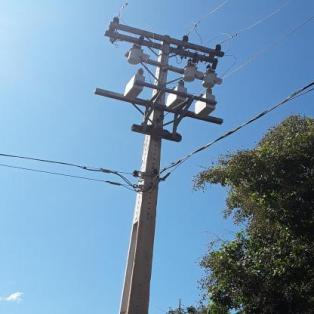Poste: (113, 32, 178, 314)
